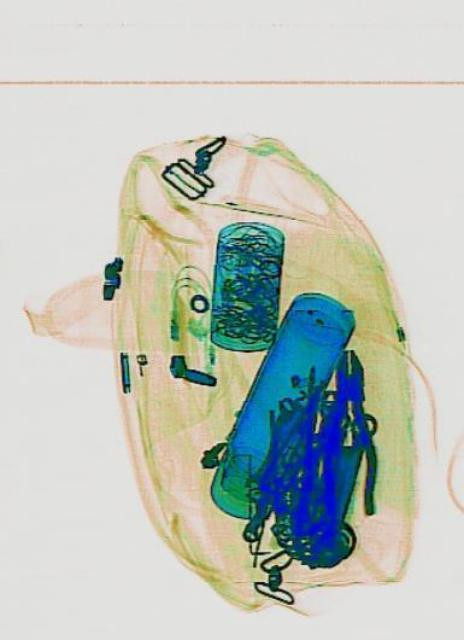Pliers: (318, 348, 375, 522)
